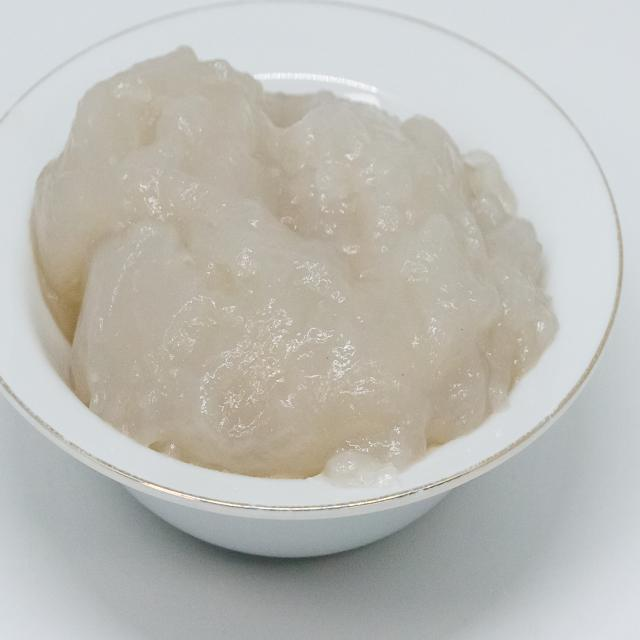Papeda: (19, 35, 562, 498)
